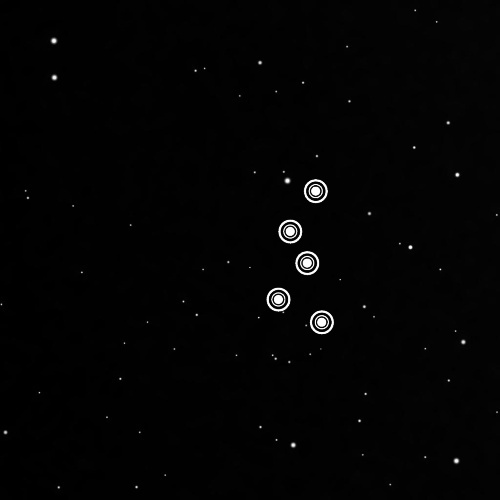cassiopeia: (263, 172, 339, 341)
